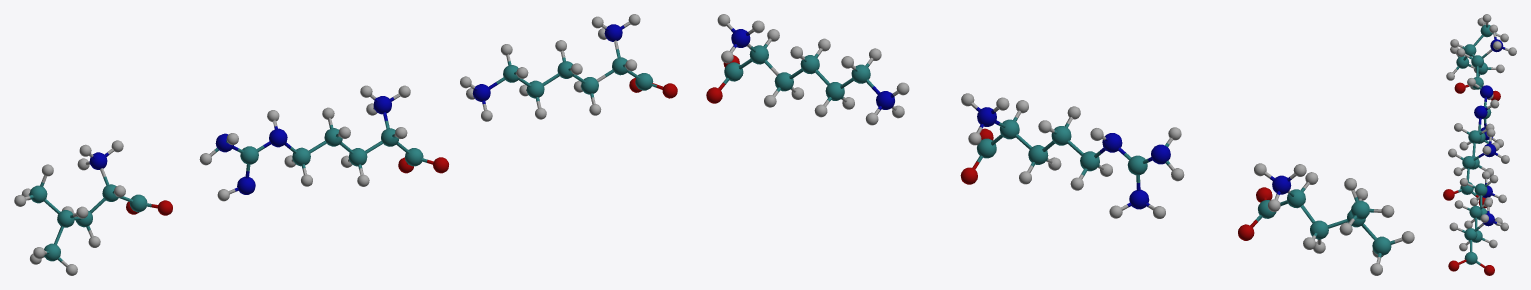
Rendered from Aminoacidos.fbx.
The picture shows the model from 3 angles, left to right: view 1: azimuth 30°, elevation 25°; view 2: azimuth 150°, elevation 25°; view 3: azimuth 270°, elevation 25°; orthographic projection. The views are drawn at different scales.
Parts seen in each view (by area): view 1: arginina, lisina, leucina; view 2: arginina, lisina, leucina; view 3: arginina, lisina, leucina.
Boxes of the visible parts, x1,y1,x2,y2 form: arginina: [199, 85, 448, 201]; lisina: [460, 14, 677, 121]; leucina: [14, 140, 172, 275]; arginina: [960, 93, 1184, 218]; lisina: [706, 14, 909, 125]; leucina: [1238, 163, 1414, 275]; arginina: [1443, 78, 1509, 208]; lisina: [1448, 171, 1508, 275]; leucina: [1446, 14, 1516, 100].
Bounding box in the file's own units: 183 × 28.95 × 25.23.
